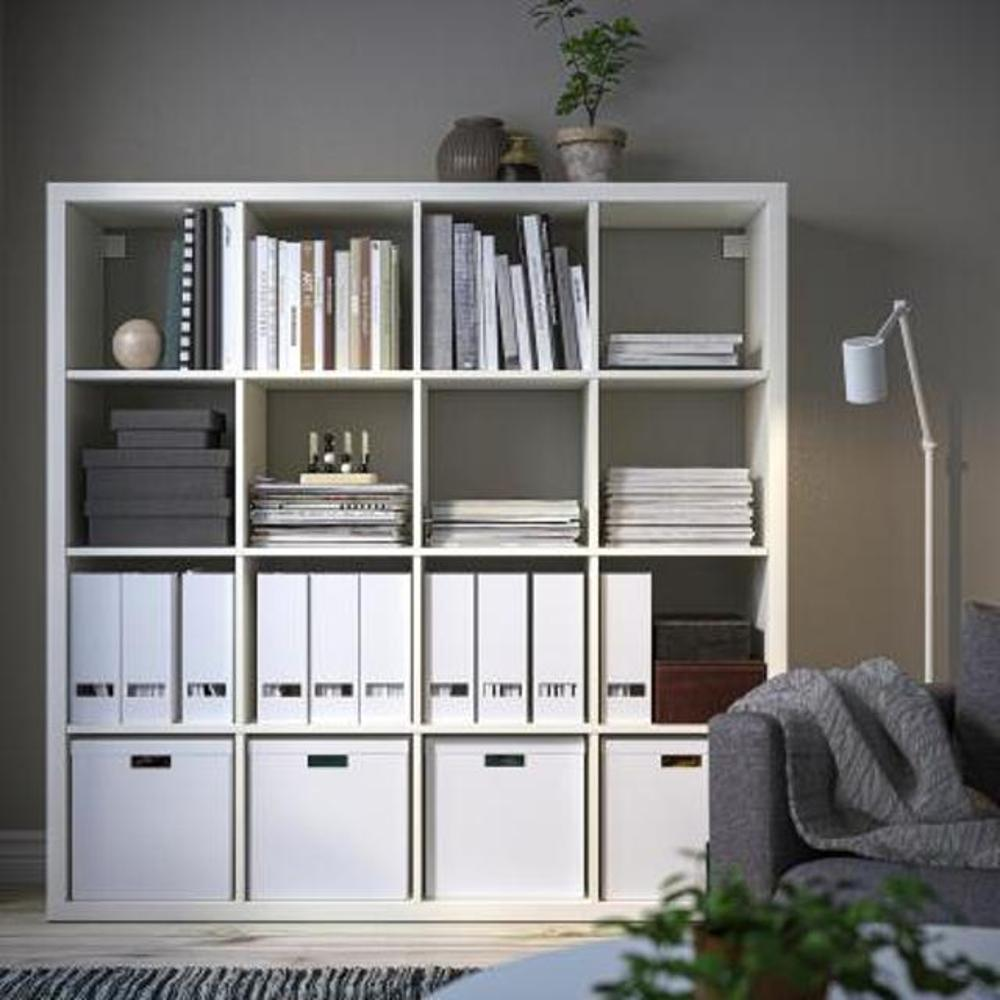lamp: (38, 175, 791, 933)
